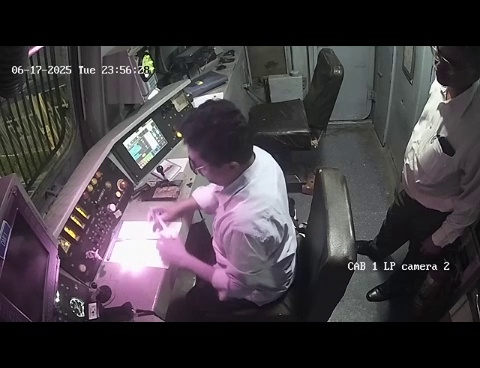horn_inactive: (82, 273, 121, 313)
